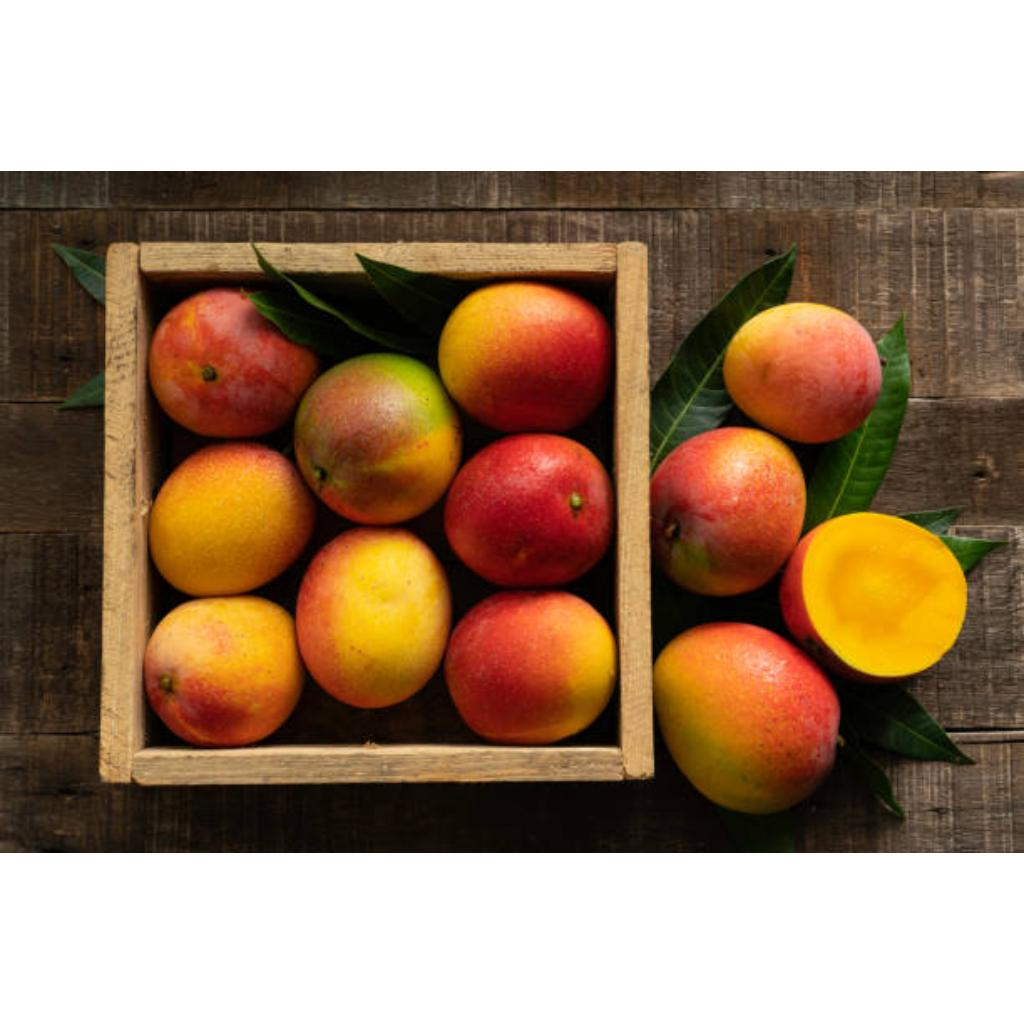mango: (654, 623, 838, 814), (780, 513, 966, 683), (294, 353, 462, 524), (296, 529, 450, 708), (650, 427, 806, 596), (444, 433, 614, 586), (444, 593, 616, 744), (148, 289, 320, 438), (438, 283, 612, 430), (150, 443, 316, 596), (144, 597, 304, 746), (724, 303, 882, 443)
